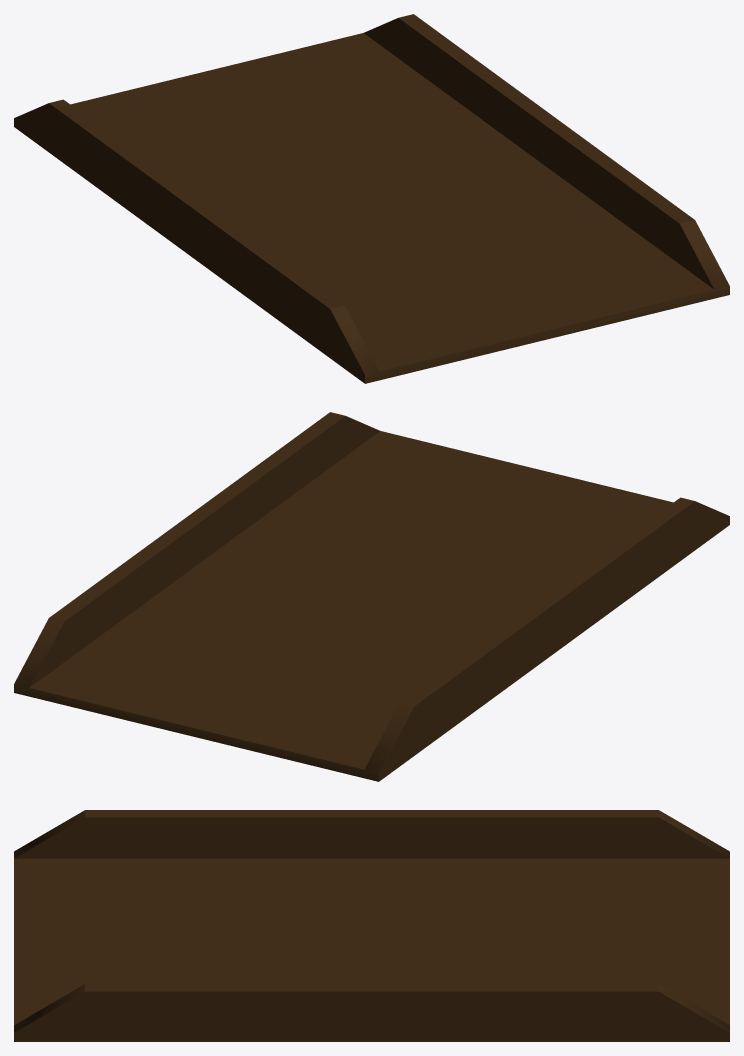
File: Bridge.fbx
3 renders of one model, top to bottom at view 1: azimuth 30°, elevation 25°; view 2: azimuth 150°, elevation 25°; view 3: azimuth 270°, elevation 25°, orthographic.
Parts seen in each view (by area): view 1: Bridge; view 2: Bridge; view 3: Bridge.
Part boxes in pixels (box(x1,y1,x2,y2)): Bridge: box(14, 14, 729, 383); Bridge: box(14, 412, 729, 781); Bridge: box(14, 810, 729, 1041).
Bounding box in the file's own units: 12 × 1.55 × 20.
